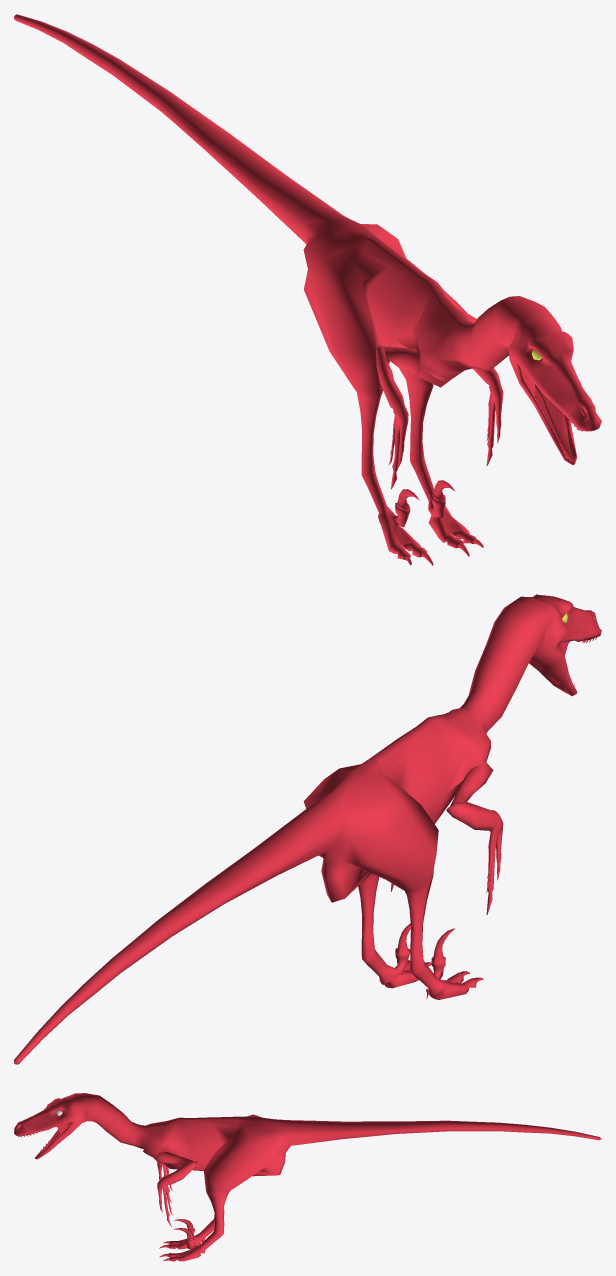
Rendered from HairyDino.fbx.
The picture shows the model from 3 angles, top to bottom: view 1: azimuth 30°, elevation 25°; view 2: azimuth 150°, elevation 25°; view 3: azimuth 270°, elevation 25°; orthographic projection. The views are drawn at different scales.
Visible parts, largest first — view 1: Raptor_Obj; view 2: Raptor_Obj; view 3: Raptor_Obj.
Boxes of the visible parts, bbox=[...] form: Raptor_Obj: bbox=[14, 14, 601, 565]; Raptor_Obj: bbox=[14, 594, 601, 1064]; Raptor_Obj: bbox=[14, 1093, 601, 1261].
Size of the model in its own units: 7803 by 21770 by 73264.
